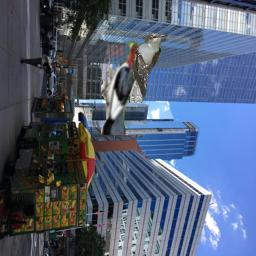Cuckoo: (128, 33, 168, 103)
Woodpecker: (101, 39, 141, 135)
